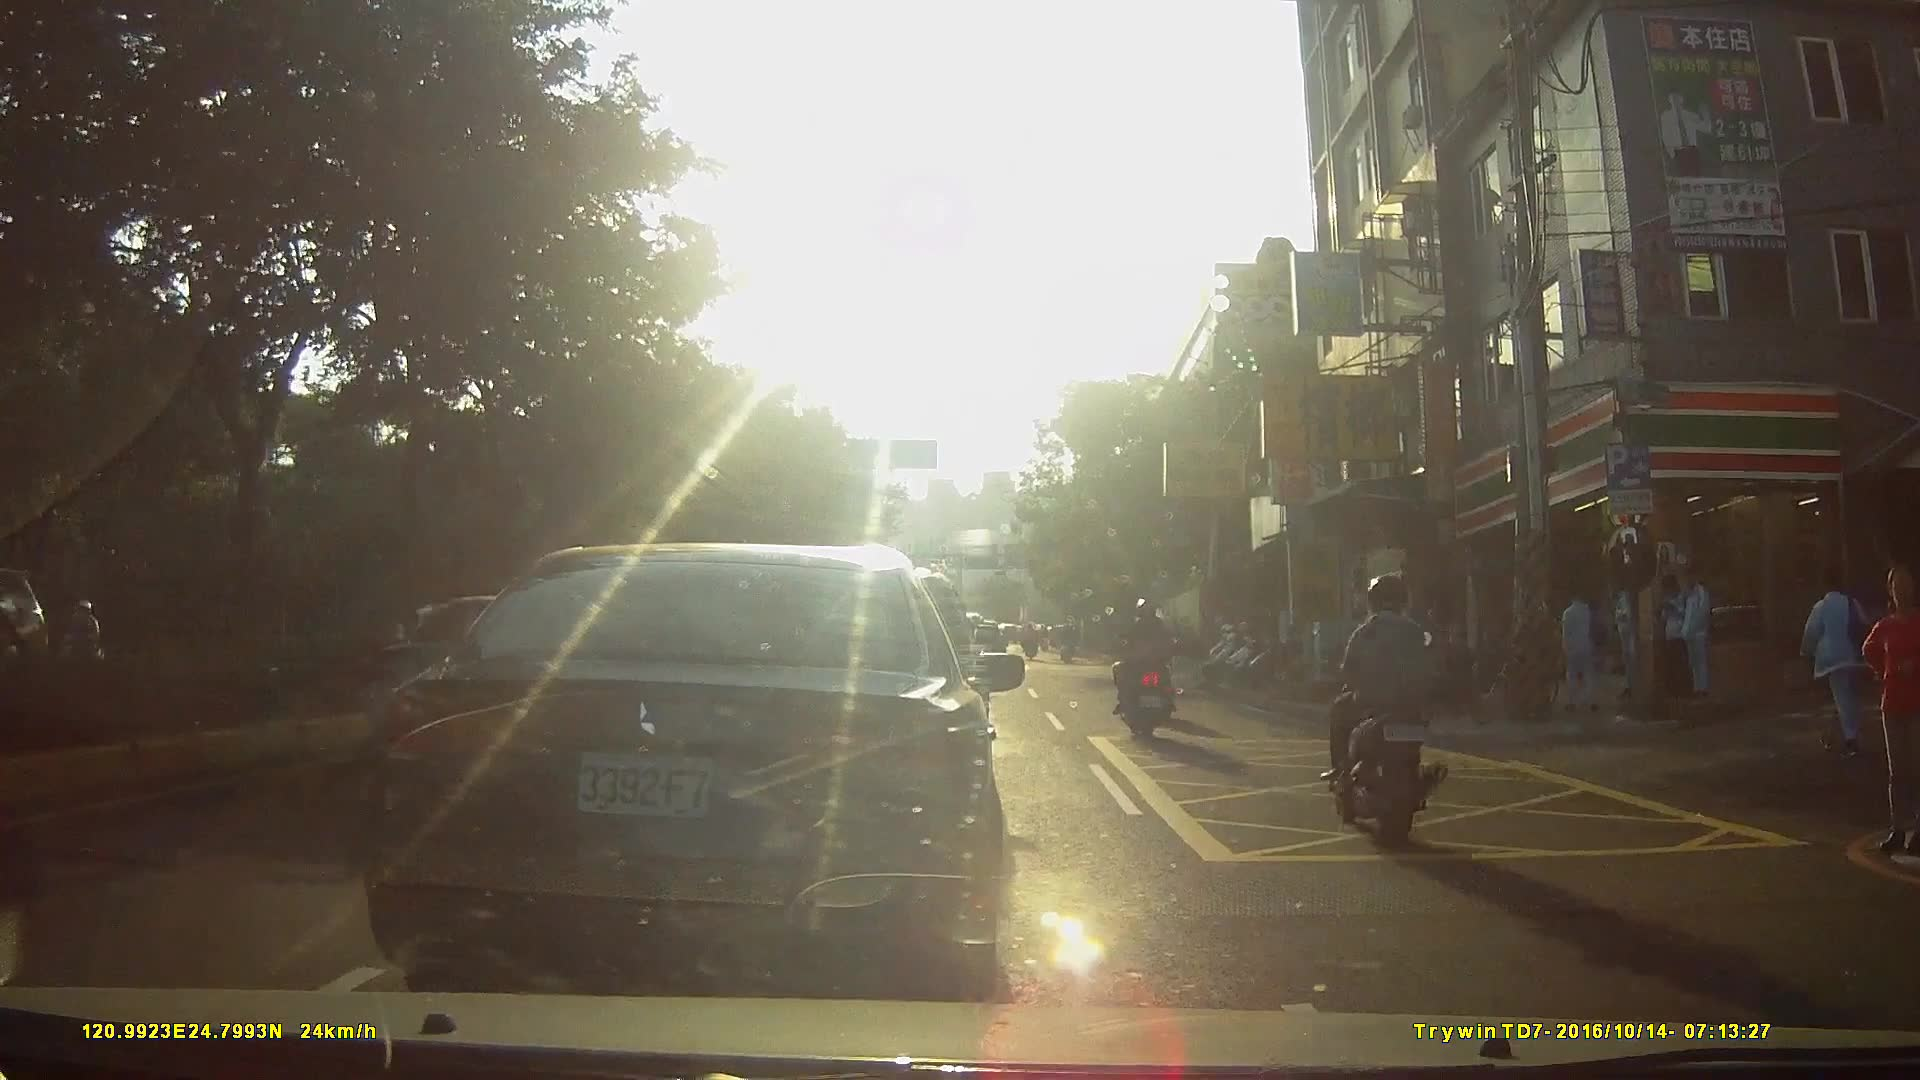pedestrian: (1858, 567, 1920, 854), (1796, 566, 1877, 763), (1556, 579, 1607, 715), (1610, 574, 1655, 708), (1668, 569, 1713, 699), (1658, 568, 1696, 709)
rider: (1323, 574, 1451, 850), (1114, 595, 1181, 740), (1057, 621, 1080, 665), (1021, 621, 1042, 665)
vehicle: (357, 541, 1037, 983), (1, 566, 58, 715)
